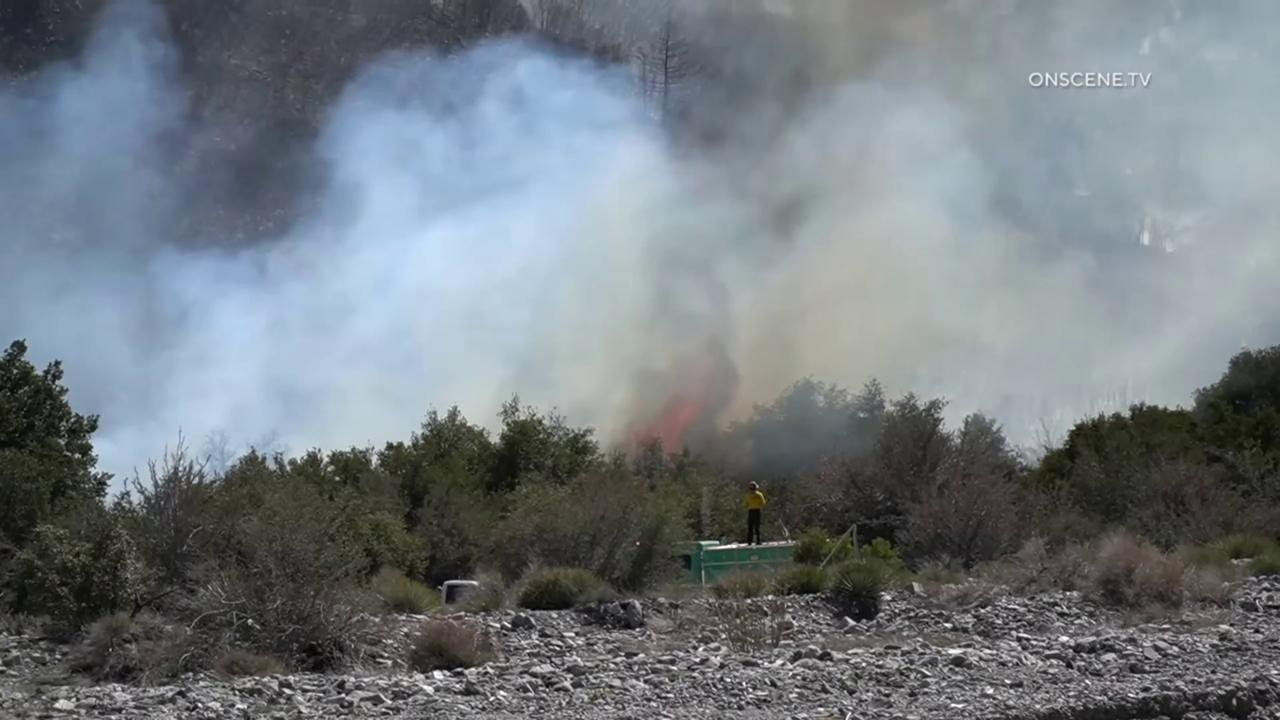fire: (632, 398, 704, 462)
smoke: (0, 0, 1280, 509)
